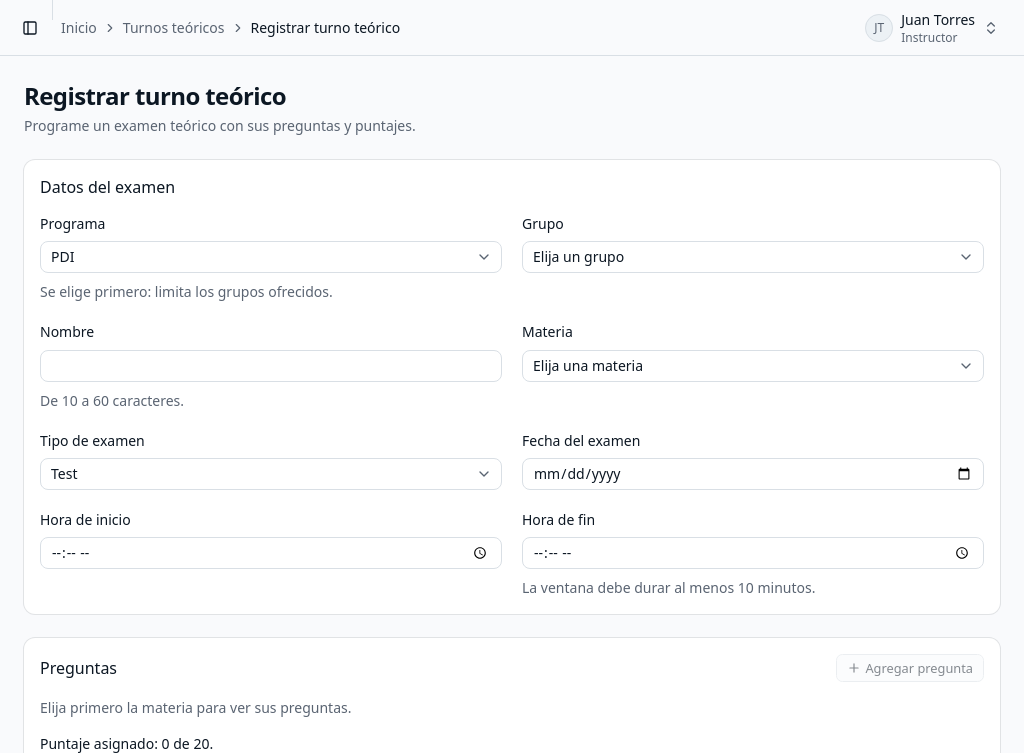
Test: Registrar y modificar turno teórico › CA-TUT-05 una materia sin preguntas muestra E12 y no deja agregar
Check: the field labelled "Nombre" is shown, box [40,350,502,382]
Select "Meteorología" in the dropdown labelled "Materia" at (753, 366), box [522,350,984,382]
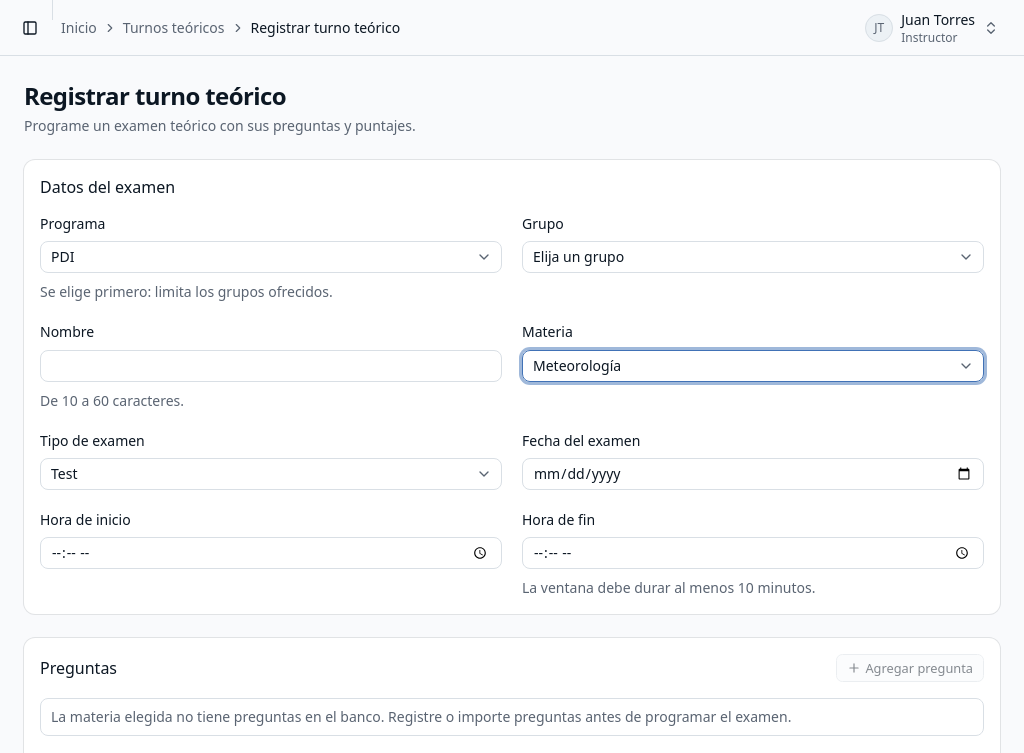
Check: the button "Agregar pregunta" is disabled, box [836,654,984,682]
Check: the text "La materia elegida no tiene preguntas en el banco. Registre o importe preguntas antes de programar el examen." is shown, box [51,707,791,726]
